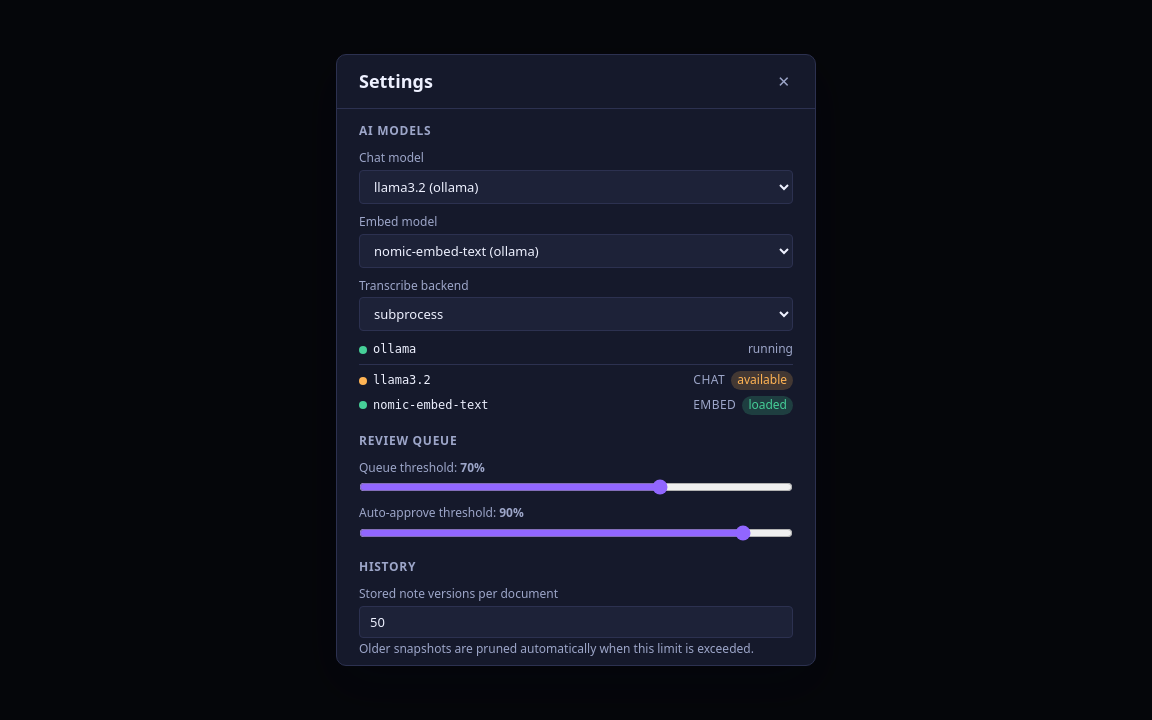
Test case: SettingsModal — loaded state › does not send NaN when the history retention input is cleared
Clear the number field with test id "history-retention-input" at (576, 622), box top-left (359, 606), bottom-right (793, 638)
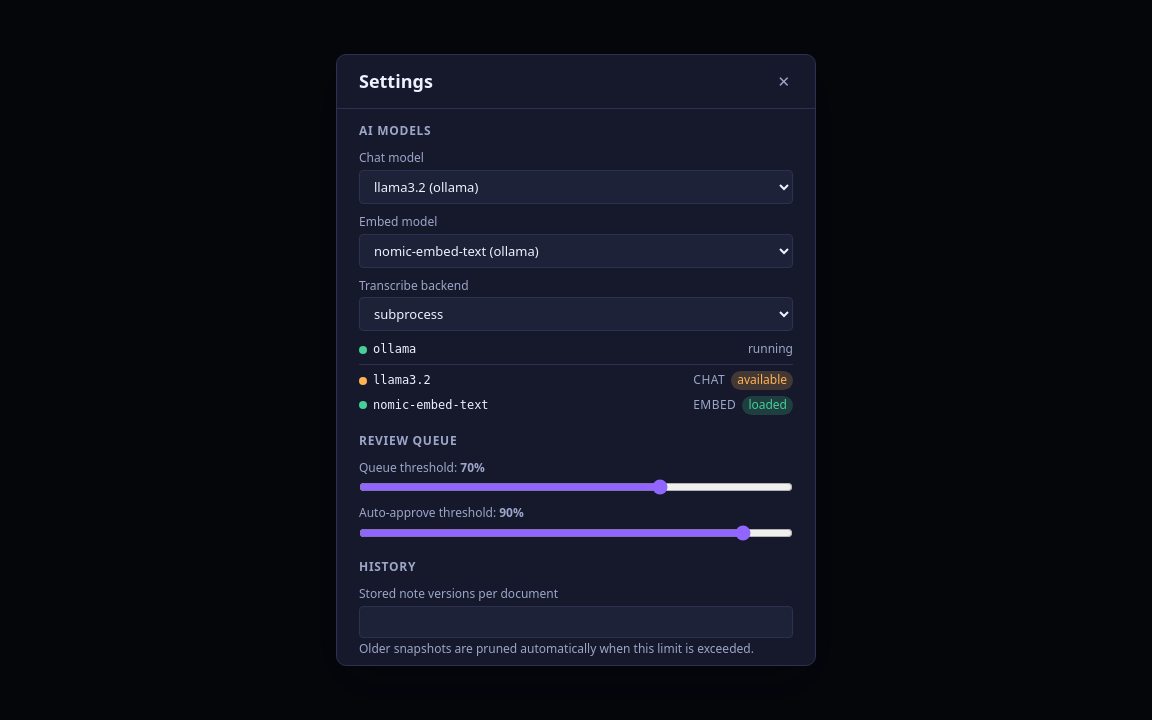
Leave the number field with test id "history-retention-input", box top-left (359, 606), bottom-right (793, 638)
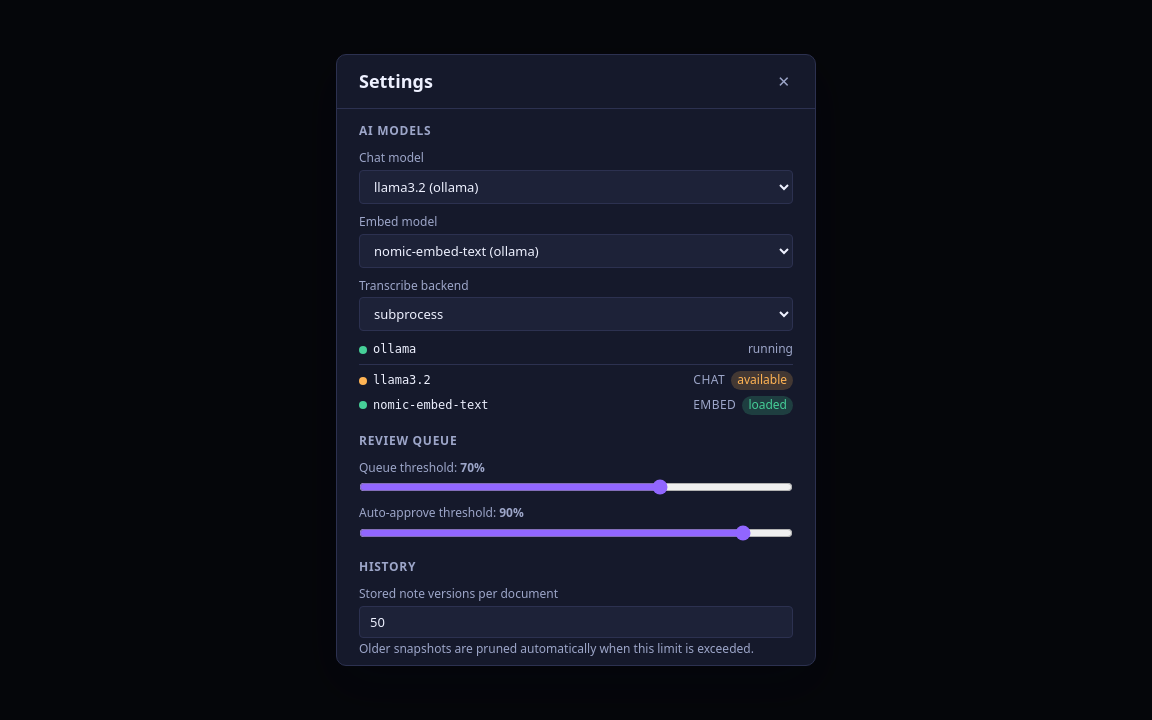
Expected: the number field with test id "history-retention-input" holds "50", top-left (359, 606), bottom-right (793, 638)
